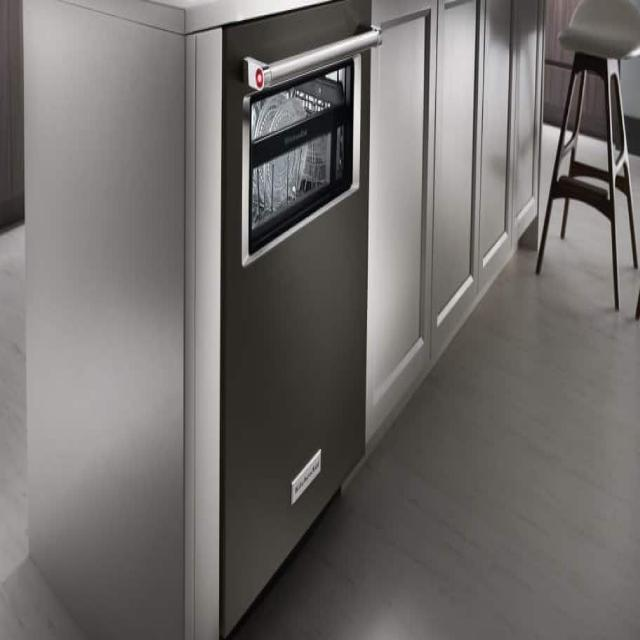dishwasher: (210, 10, 370, 640)
